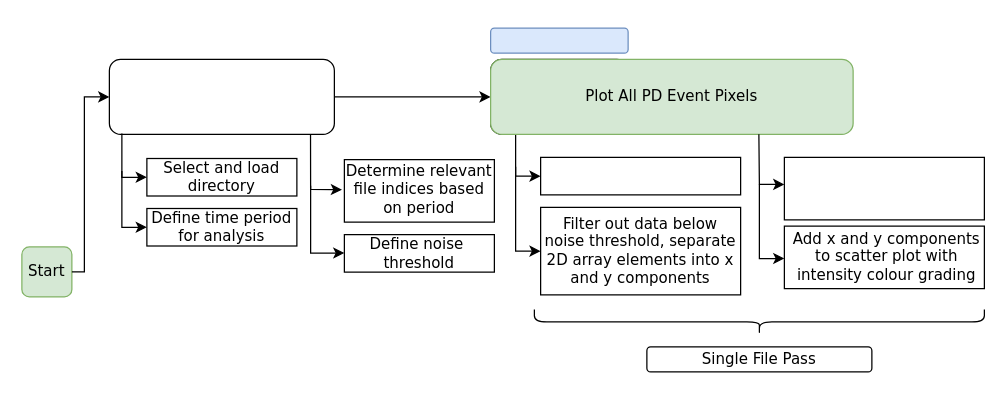
The diagram is 1006 pixels wide and 399 high, and some of its shapes have lost their labels. Each missing label, with the centre of its shape:
"For all files:" belongs at point (558, 40).
"Load single image into 2D intensity array" belongs at point (640, 175).
"Save intensity values into 1D array for colour grading" belongs at point (883, 188).
"Set parameters and initialise dataset" belongs at point (221, 96).
